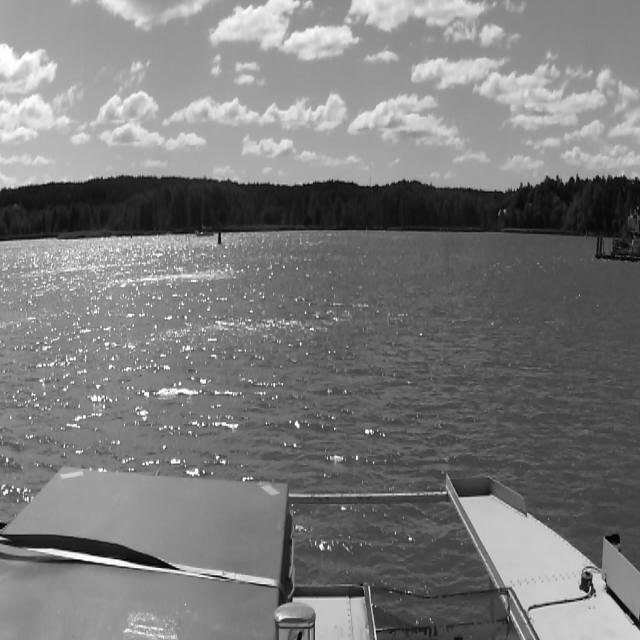buoy: (218, 228, 222, 244)
ship: (193, 172, 217, 238)
